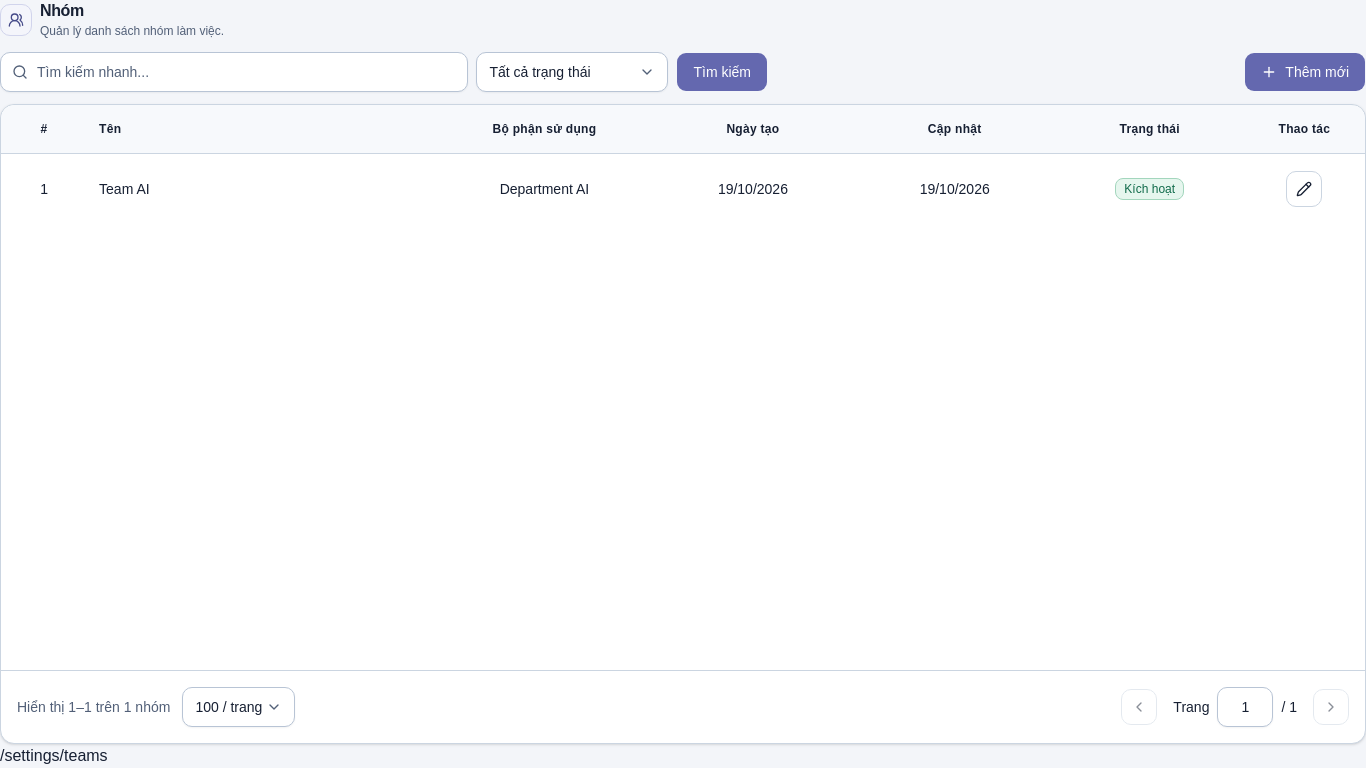
Test case: creates teams with the V2 write contract
Expected: the table named "Bảng cấu hình" is shown, 1,105 -> 1365,225
Click the button "Thêm mới" at (1305, 72), box 1244,52 -> 1365,92
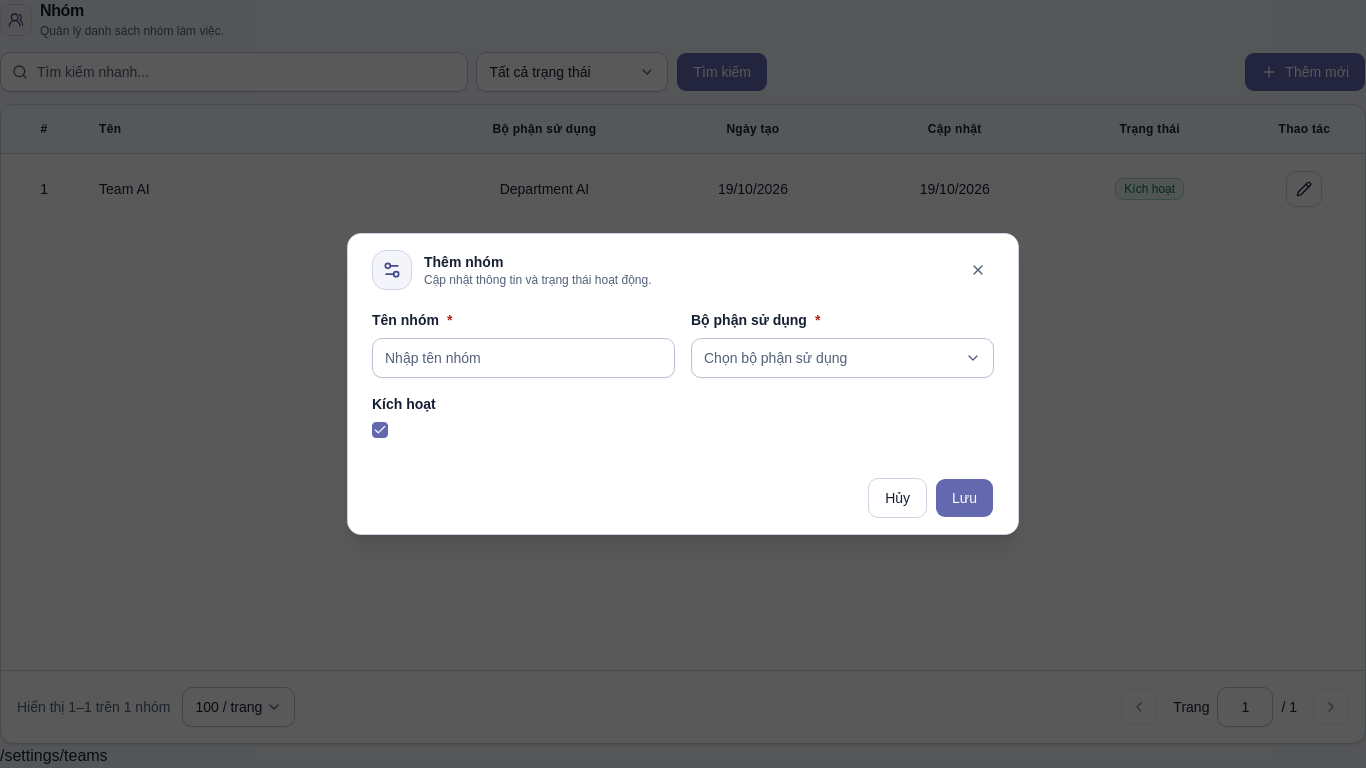
Expected: the button "Lưu" is enabled, 935,478 -> 994,518
Type "Tên mới" into the field labelled "Tên nhóm *" at (524, 358), box 372,338 -> 675,378
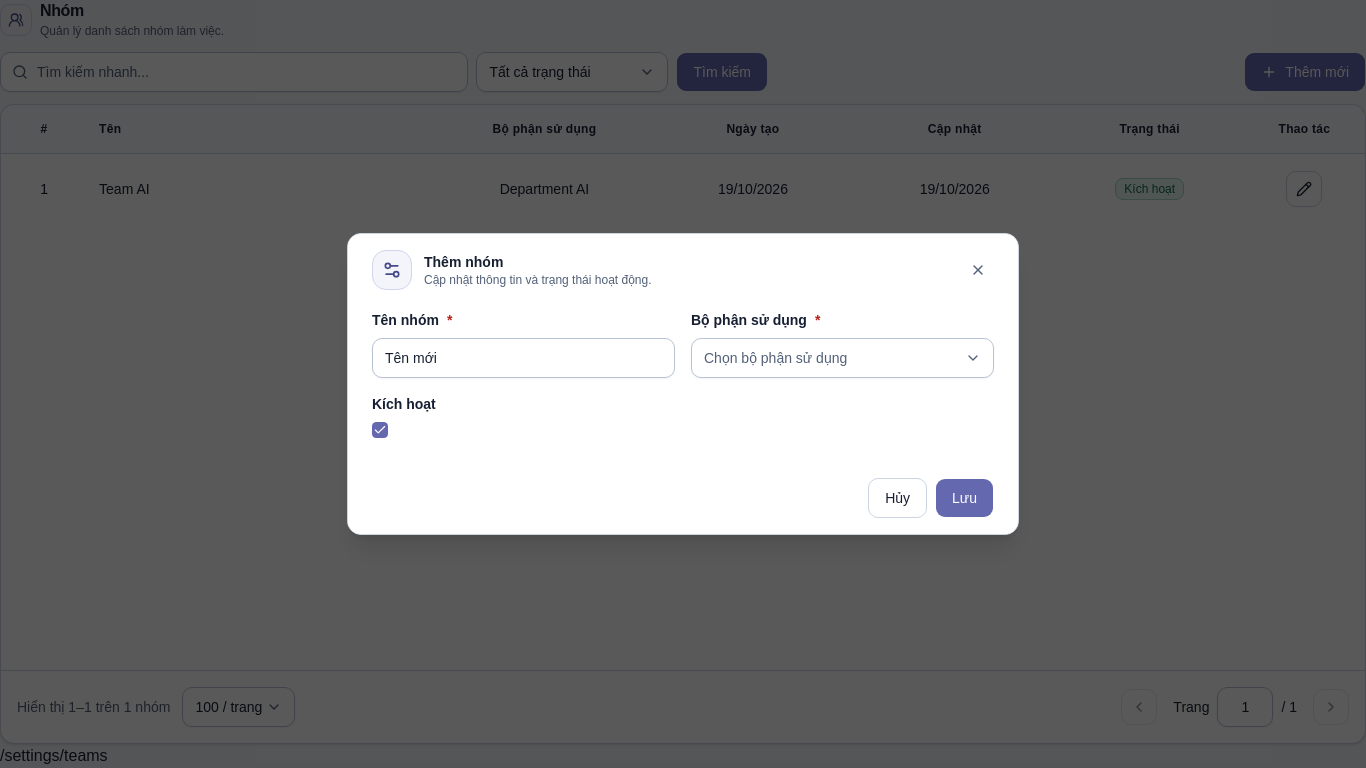
Click the dropdown labelled "bộ phận sử dụng" at (842, 358), box 691,338 -> 994,378
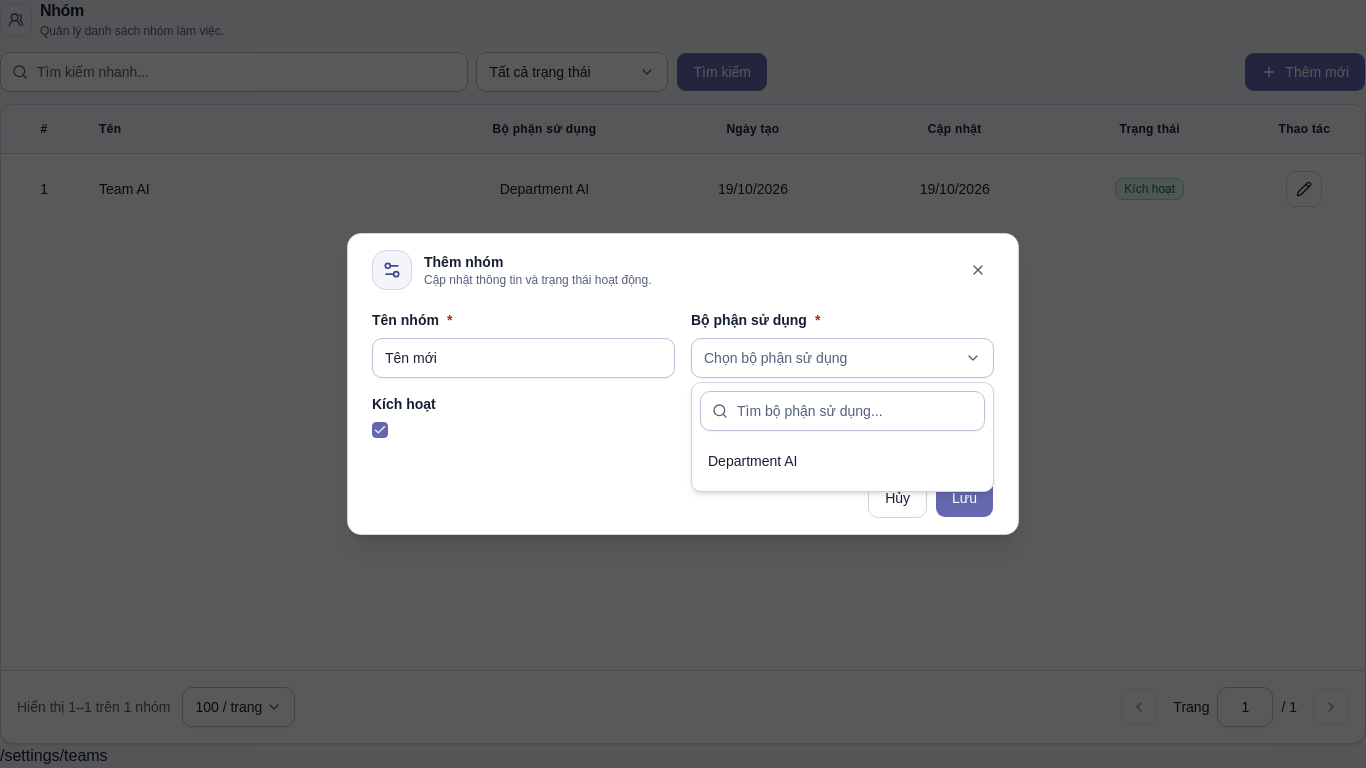
Click the option "Department AI" at (753, 461), box 708,453 -> 798,469
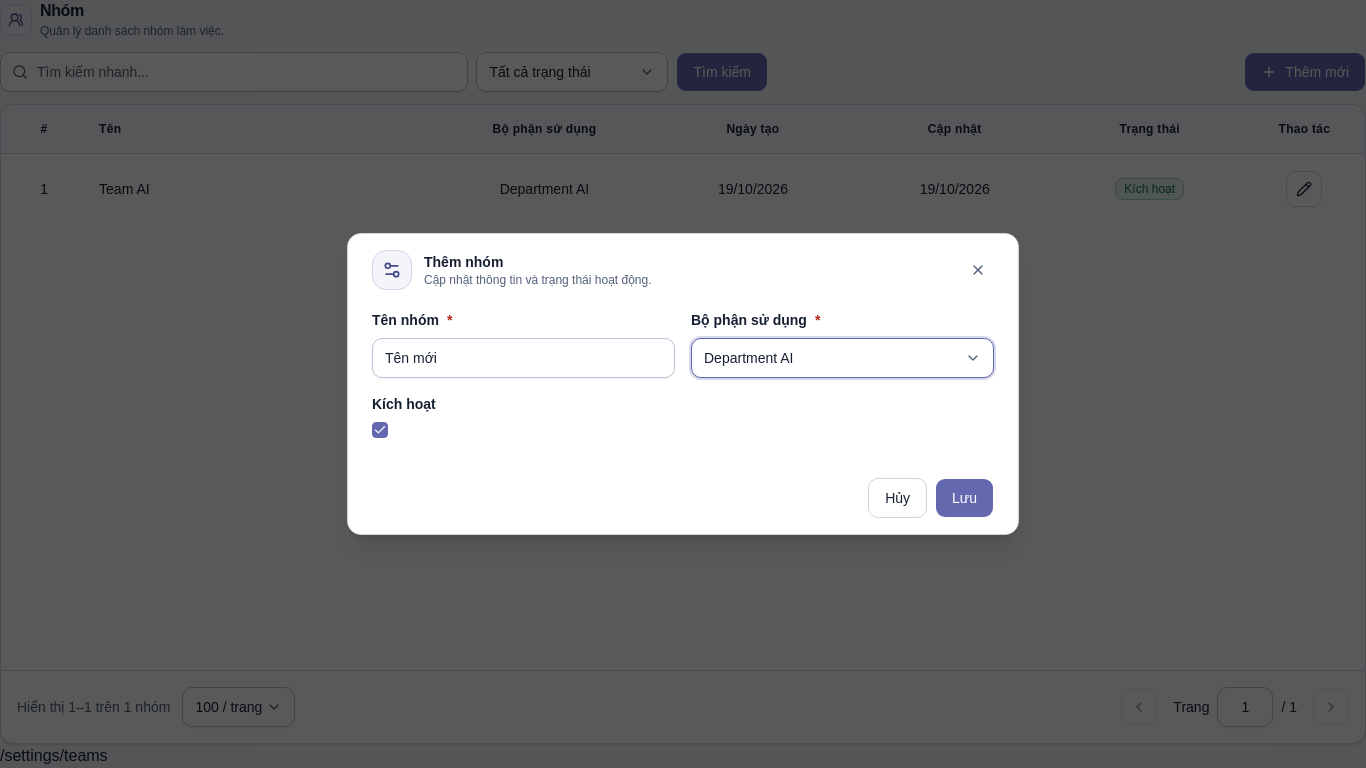
Expected: the list is gone
Click the button "Lưu" at (964, 498), box 935,478 -> 994,518
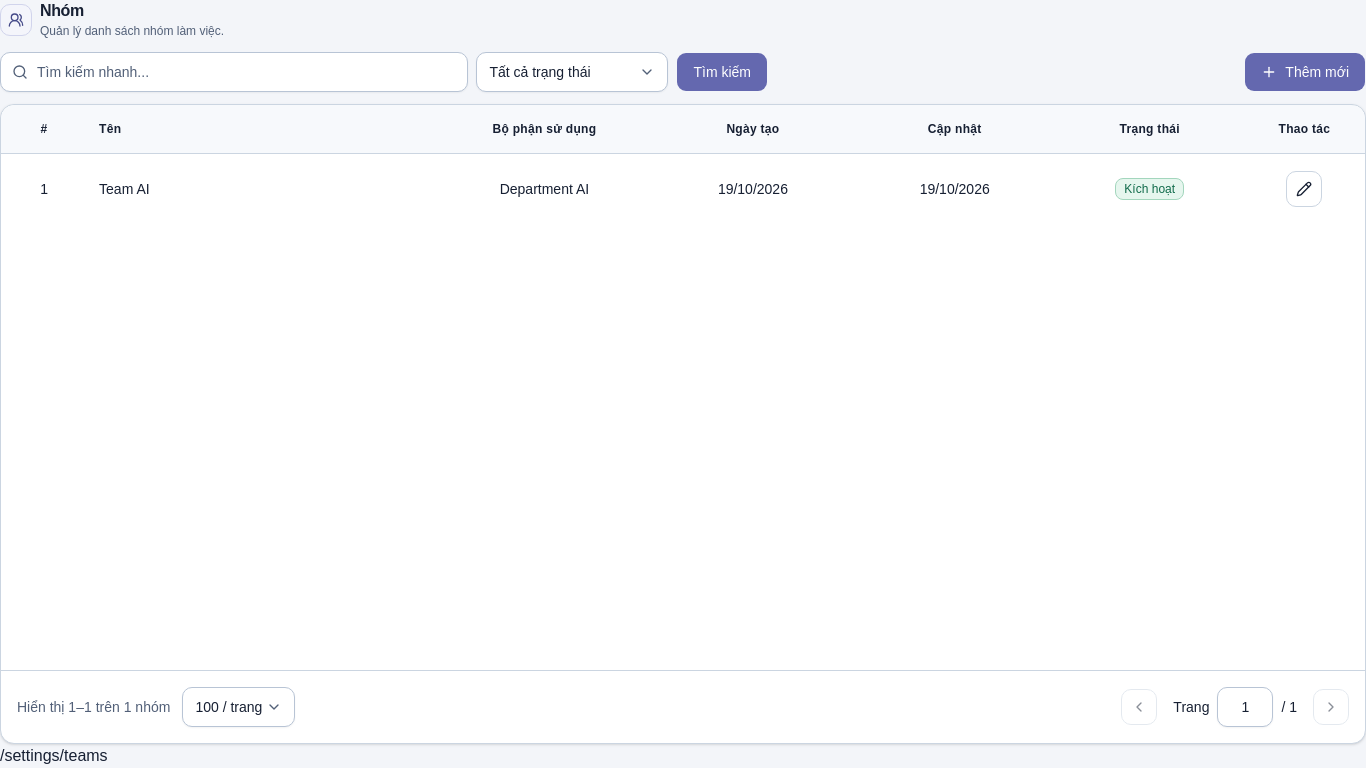
Expected: the dialog is gone
